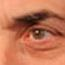eye: (32, 30, 44, 39)
